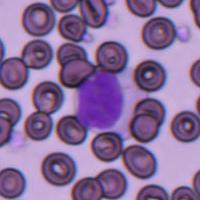M: (75, 70, 125, 132)
